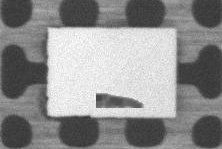DIE_INK: (94, 91, 144, 108)
